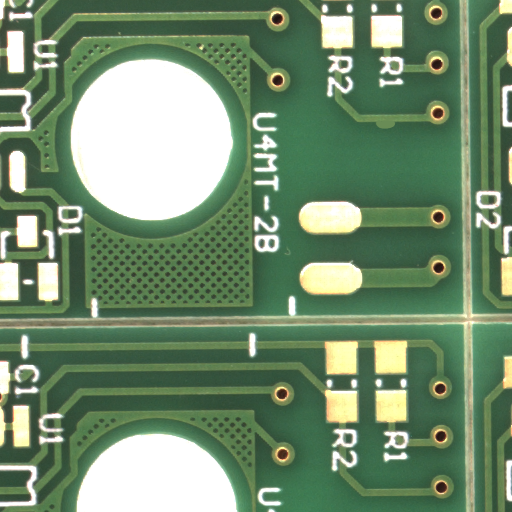Spur: (384, 124, 413, 135)
